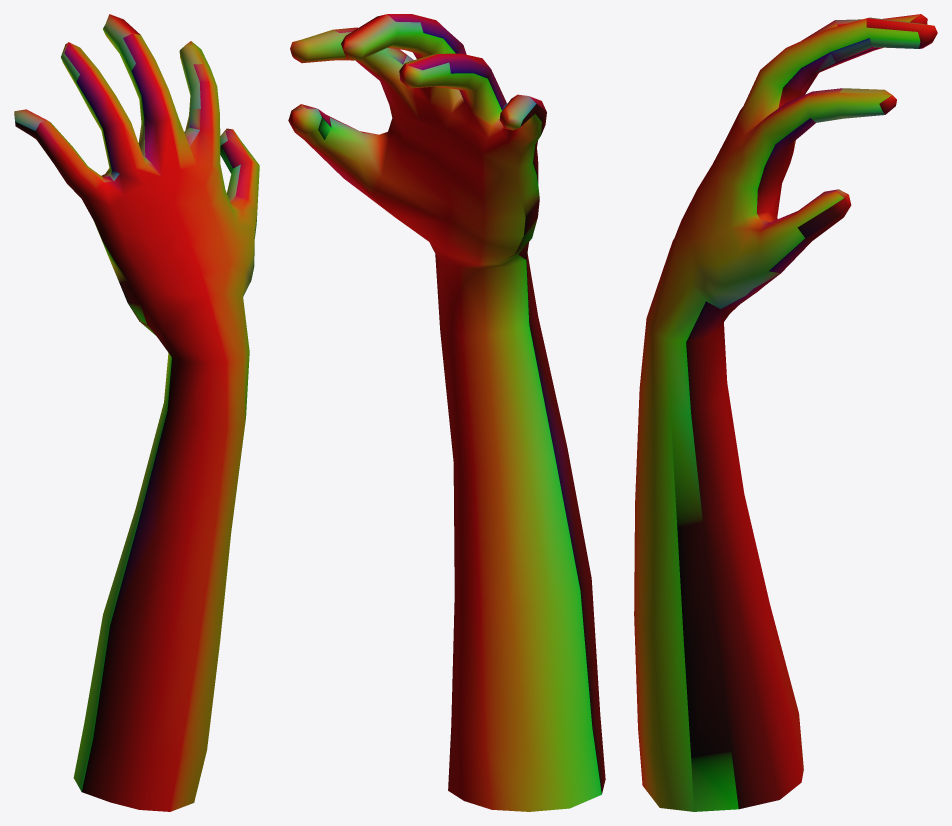
The model's file is uni_hand.fbx.
3 renders of one model, left to right at view 1: azimuth 30°, elevation 25°; view 2: azimuth 150°, elevation 25°; view 3: azimuth 270°, elevation 25°, orthographic. The views are drawn at different scales.
Visible parts, largest first — view 1: uni_hand; view 2: uni_hand; view 3: uni_hand.
Part boxes in pixels (bbox=[...]): uni_hand: bbox=[14, 14, 259, 811]; uni_hand: bbox=[288, 14, 605, 811]; uni_hand: bbox=[634, 14, 937, 811].
Bounding box in the file's own units: 1178 × 1242 × 3635.
